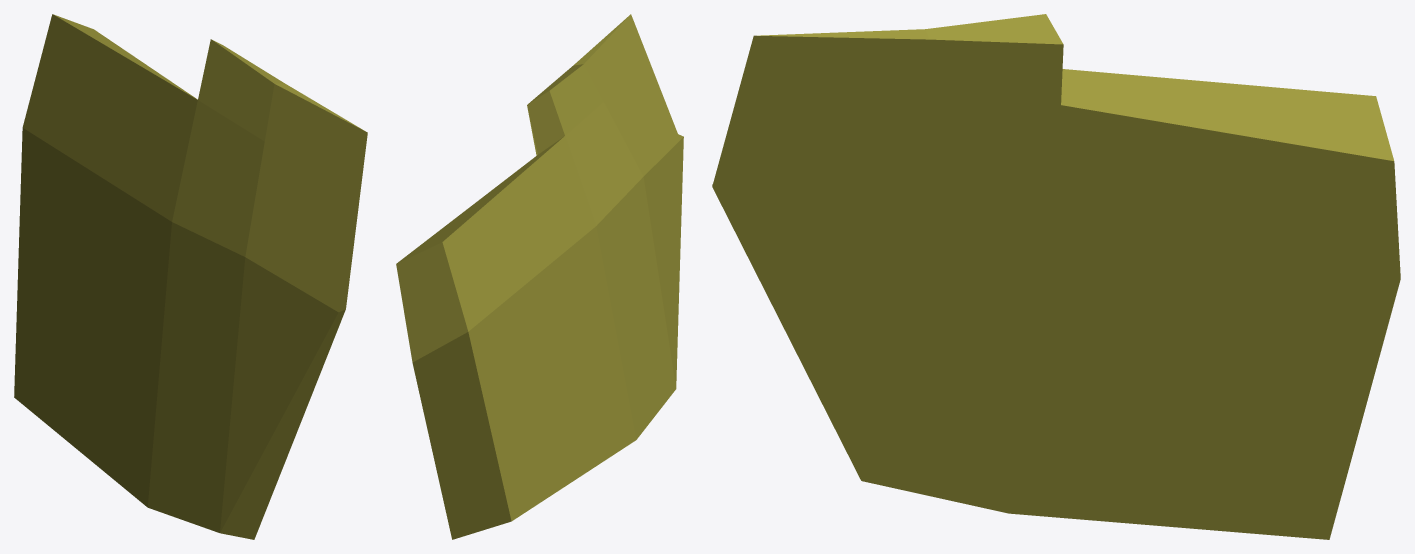
File: ala_izq.obj
3 views of the same model, side by side, from view 1: azimuth 30°, elevation 25°; view 2: azimuth 150°, elevation 25°; view 3: azimuth 270°, elevation 25° (orthographic). The views are drawn at different scales.
Parts seen in each view (by area): view 1: ave_ala_der; view 2: ave_ala_der; view 3: ave_ala_der.
Boxes of the visible parts, <box> form: ave_ala_der: <box>14,14,367,539</box>; ave_ala_der: <box>396,14,683,539</box>; ave_ala_der: <box>712,14,1400,539</box>.
Size of the model in its own units: 0.1366 by 0.4961 by 0.5861.
Materials: 1 (1 with a texture image).
